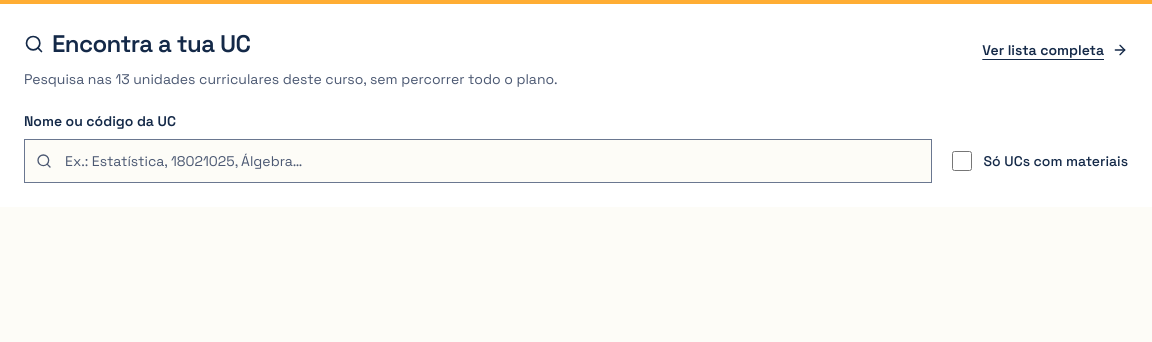
it: CourseUnitQuickFinder › finds a UC by accent-insensitive title or exact code and links to its classroom
Later steps or results of the test are not shown.
In the search field labelled "Nome ou código da UC": point(478, 161) [24,139,932,183], type "calculo"
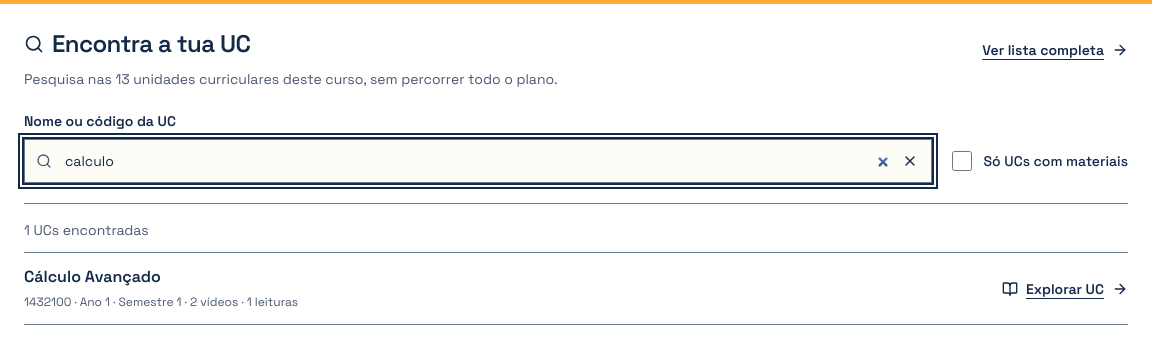
Expected: the message reads "1 UCs encontradas", [24,221,149,239]
